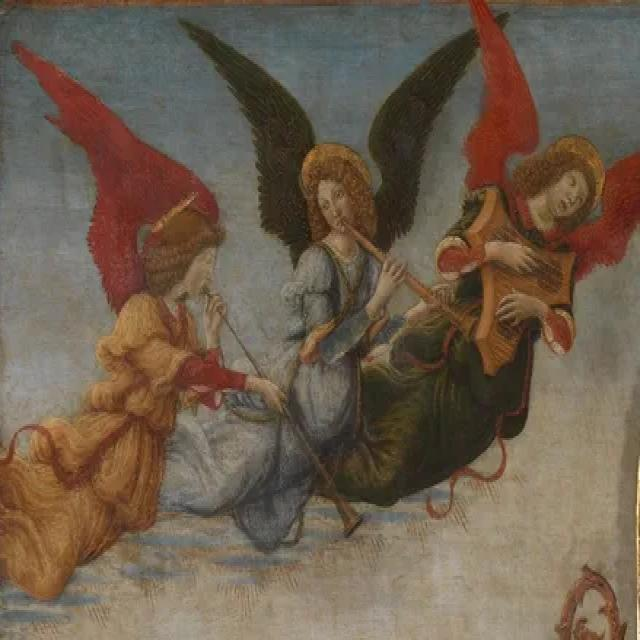angel: (405, 0, 640, 512)
